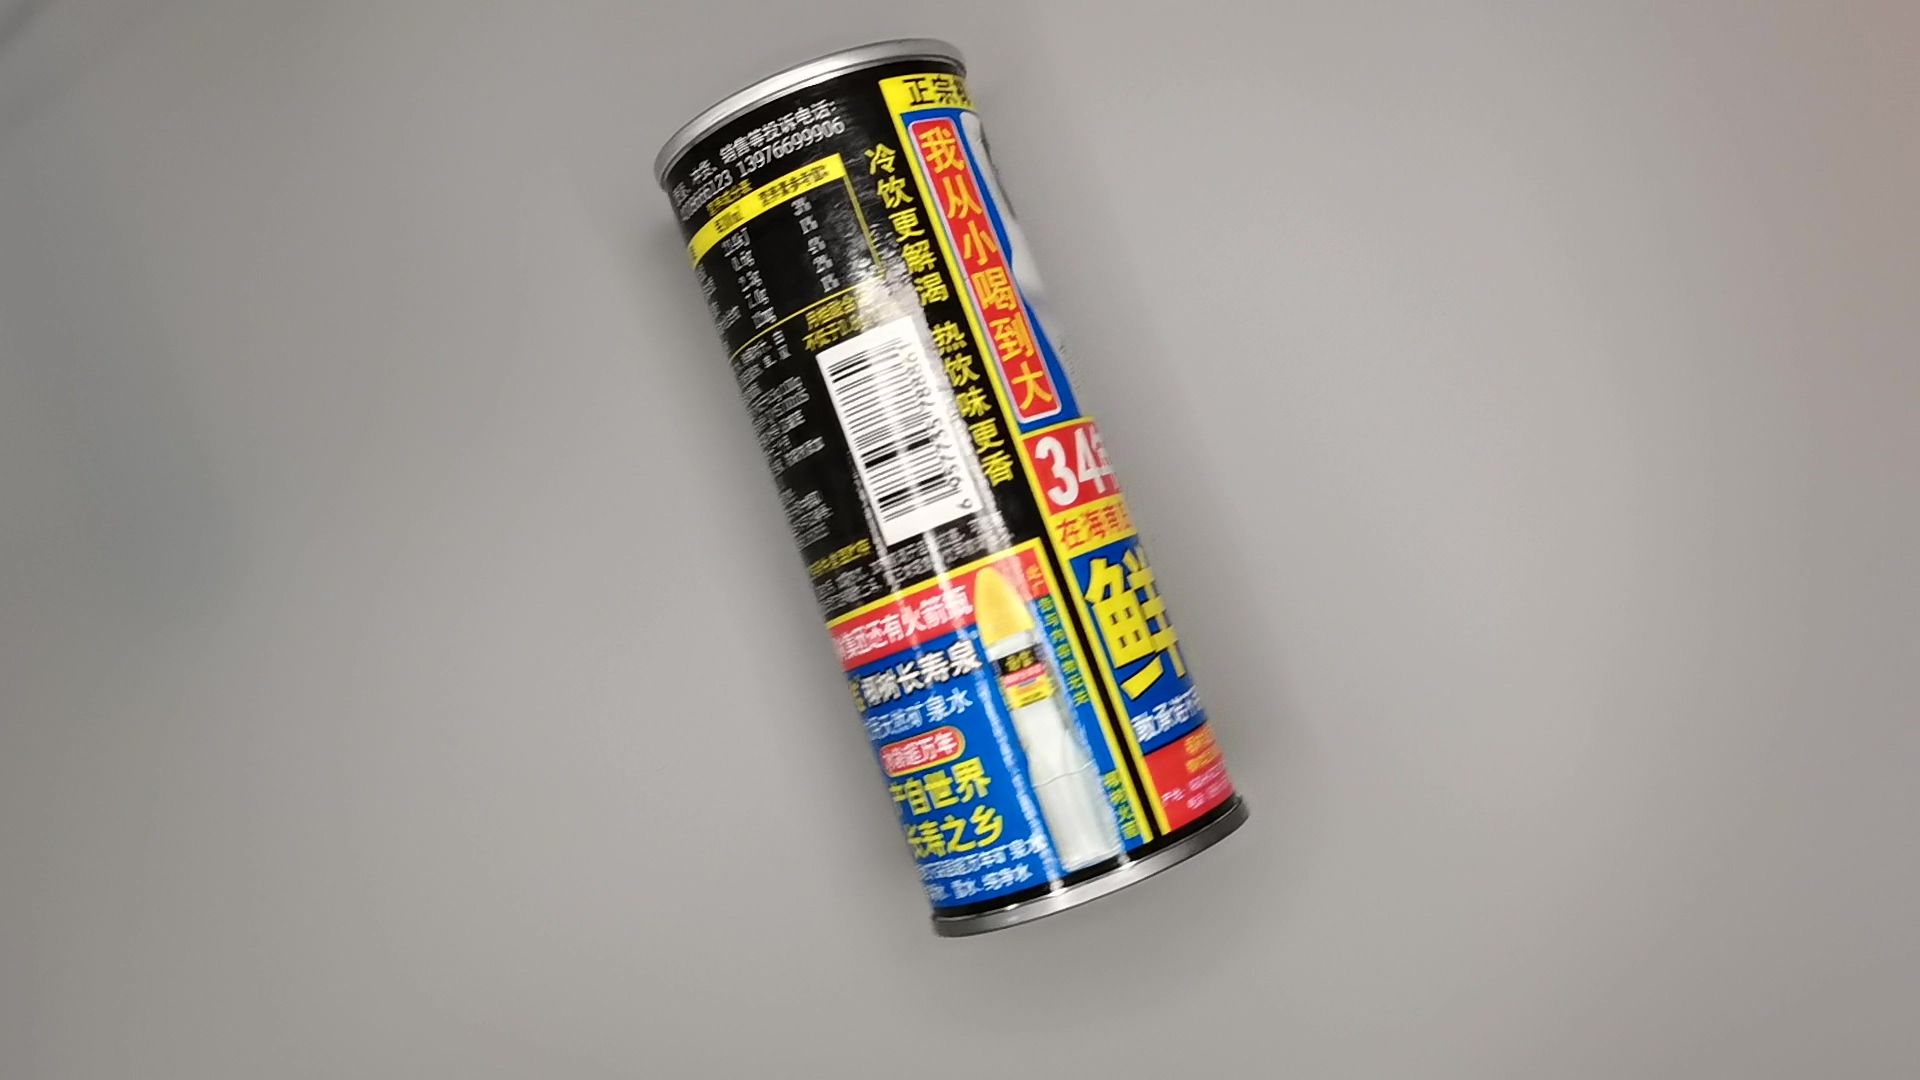can: (651, 30, 1255, 949)
